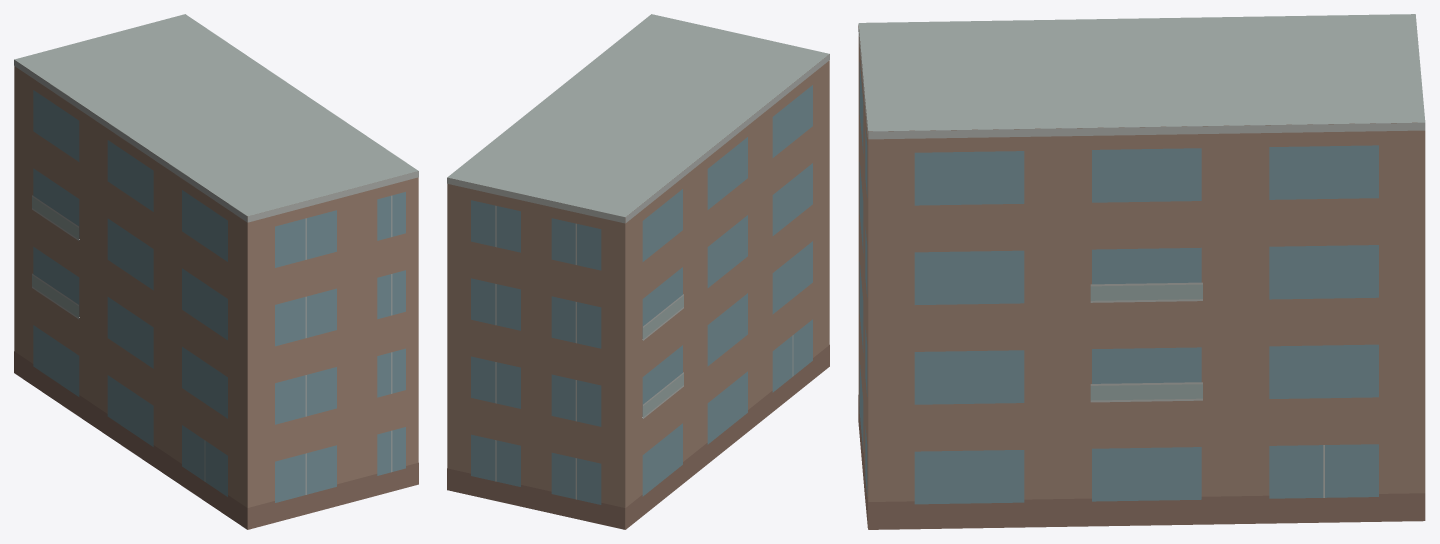
File: residential-3deadf2f-c536-430d-b22c-f3bfbcfc0145.glb
The picture shows the model from 3 angles, left to right: view 1: azimuth 30°, elevation 25°; view 2: azimuth 150°, elevation 25°; view 3: azimuth 270°, elevation 25°; orthographic projection. The views are drawn at different scales.
Visible parts, largest first — view 1: residential-3deadf2f-c536-430d-b22c-f3bfbcfc0145.tmp; view 2: residential-3deadf2f-c536-430d-b22c-f3bfbcfc0145.tmp; view 3: residential-3deadf2f-c536-430d-b22c-f3bfbcfc0145.tmp.
Boxes of the visible parts, box(x1,y1,x2,y2) form: residential-3deadf2f-c536-430d-b22c-f3bfbcfc0145.tmp: box(14, 14, 418, 529); residential-3deadf2f-c536-430d-b22c-f3bfbcfc0145.tmp: box(447, 14, 829, 529); residential-3deadf2f-c536-430d-b22c-f3bfbcfc0145.tmp: box(858, 14, 1425, 529).
Bounding box in the file's own units: 7.72 × 12.2 × 15.74.
